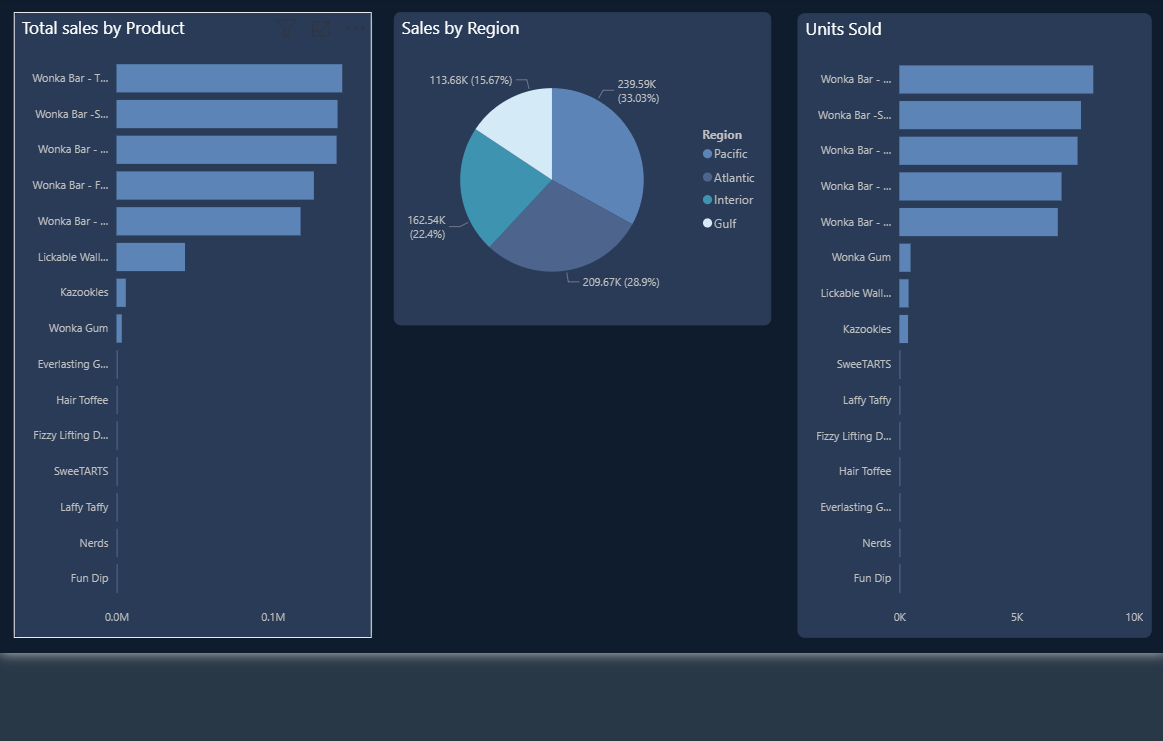

What the dashboard file says about the page in this screenshot:
{"tool":"powerbi","page":{"name":"Sales","canvas":[1280,720],"ordinal":1},"visuals":[{"type":"clusteredBarChart","title":"Total sales by Product","fields":{"Category":["Candy_Sales.Product Name"],"Y":["Sum(Candy_Sales.Total sales)"]},"box":[14.8,16.4,393.4,686.9],"z":0},{"type":"pieChart","title":"Sales by Region","fields":{"Category":["Candy_Sales.Region"],"Y":["Sum(Candy_Sales.Total sales)"]},"box":[432.8,16.4,414.8,344.3],"z":1000},{"type":"barChart","title":"Units Sold","fields":{"Category":["Candy_Sales.Product Name"],"Y":["Sum(Candy_Sales.Units)"]},"box":[875.4,18,388.5,685.2],"z":2000}]}

Visuals, with their boxes on the page's 1280x720 design canvas (x1, y1, x2, y2). These are canvas units, not pixel positions in the 1163x741 screenshot, which may show the page scaled, cropped or inside an application window:
"Total sales by Product" clusteredBarChart: 15, 16, 408, 703
"Sales by Region" pieChart: 433, 16, 848, 361
"Units Sold" barChart: 875, 18, 1264, 703
